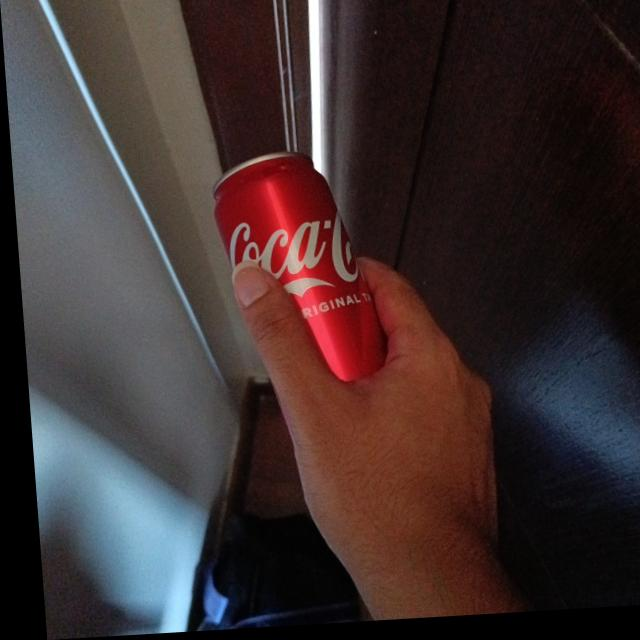coke: (205, 153, 383, 385)
